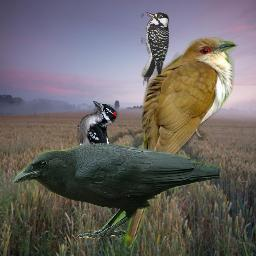Crow: (12, 143, 221, 241)
Cuckoo: (123, 37, 238, 249)
Woodpecker: (77, 101, 132, 167), (141, 11, 169, 86)
